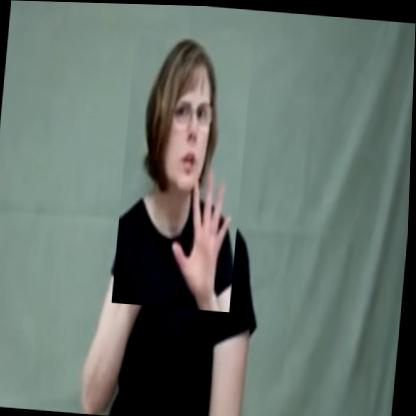Talk: (113, 32, 253, 311)
